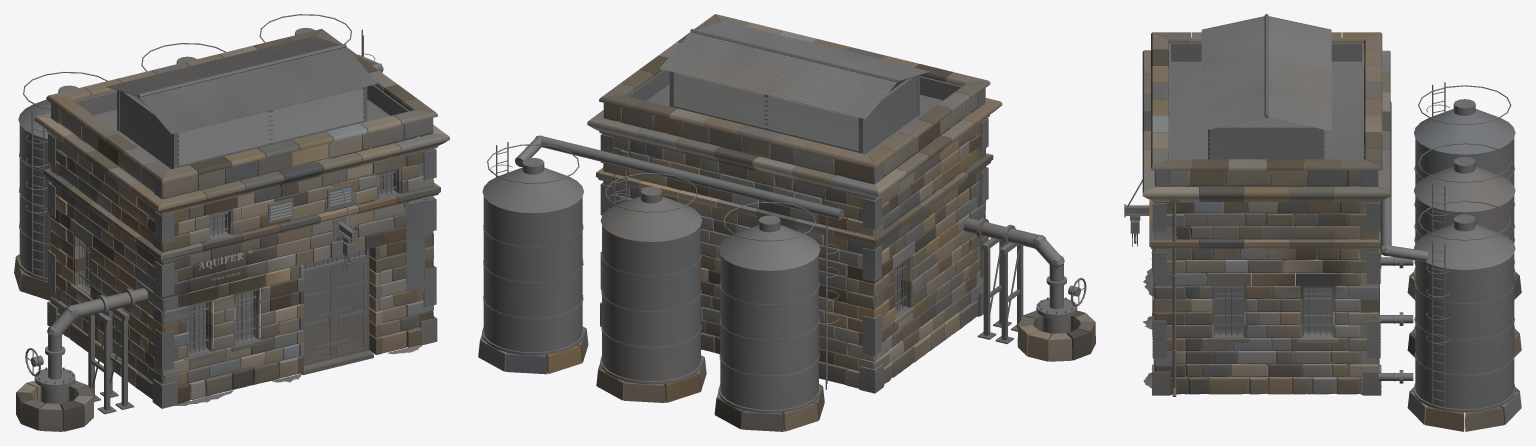
The model's file is Aquifer3_LOD0.glb.
3 renders of one model, left to right at view 1: azimuth 30°, elevation 25°; view 2: azimuth 150°, elevation 25°; view 3: azimuth 270°, elevation 25°, orthographic.
Visible parts, largest first — view 1: Aquifer3_Masonry_LOD0, Aquifer3_Metal_LOD0, Aquifer3_Trim_LOD0, Aquifer3_Roof_LOD0, Aquifer3_Porch_LOD0, Aquifer3_Glass_LOD0, Aquifer3_Canvas_LOD0, Aquifer3_Sand_LOD0, Aquifer3_Hardware_LOD0; view 2: Aquifer3_Metal_LOD0, Aquifer3_Masonry_LOD0, Aquifer3_Trim_LOD0, Aquifer3_Roof_LOD0, Aquifer3_Porch_LOD0; view 3: Aquifer3_Metal_LOD0, Aquifer3_Masonry_LOD0, Aquifer3_Roof_LOD0, Aquifer3_Trim_LOD0, Aquifer3_Porch_LOD0, Aquifer3_Glass_LOD0, Aquifer3_Hardware_LOD0, Aquifer3_Sand_LOD0.
Part boxes in pixels (x1,y1,x2,y2): Aquifer3_Masonry_LOD0: (50,85,433,403); Aquifer3_Metal_LOD0: (18,14,437,414); Aquifer3_Trim_LOD0: (34,29,449,374); Aquifer3_Roof_LOD0: (93,36,389,169); Aquifer3_Porch_LOD0: (14,254,373,431); Aquifer3_Glass_LOD0: (84,173,393,350); Aquifer3_Canvas_LOD0: (406,201,425,292); Aquifer3_Sand_LOD0: (75,190,421,405); Aquifer3_Hardware_LOD0: (19,39,435,406); Aquifer3_Metal_LOD0: (482,29,1086,413); Aquifer3_Masonry_LOD0: (603,70,985,388); Aquifer3_Trim_LOD0: (587,14,1002,325); Aquifer3_Roof_LOD0: (647,21,942,155); Aquifer3_Porch_LOD0: (478,310,1095,431); Aquifer3_Metal_LOD0: (1124,14,1515,412); Aquifer3_Masonry_LOD0: (1152,37,1379,394); Aquifer3_Roof_LOD0: (1171,16,1362,162); Aquifer3_Trim_LOD0: (1142,32,1390,360); Aquifer3_Porch_LOD0: (1407,272,1521,431); Aquifer3_Glass_LOD0: (1214,186,1332,331); Aquifer3_Hardware_LOD0: (1151,91,1515,401); Aquifer3_Sand_LOD0: (1143,268,1332,388).
Size of the model in its own units: 16.11 by 8.63 by 11.64.
